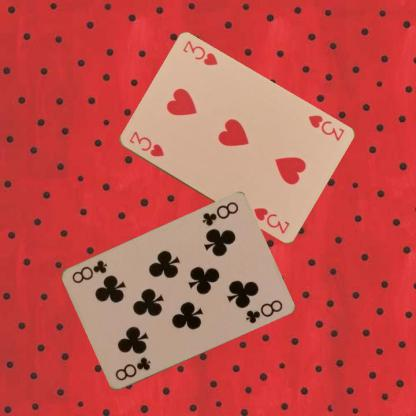3h: (305, 112, 346, 143), (126, 128, 165, 158)
8c: (199, 199, 240, 228), (112, 355, 153, 382)
